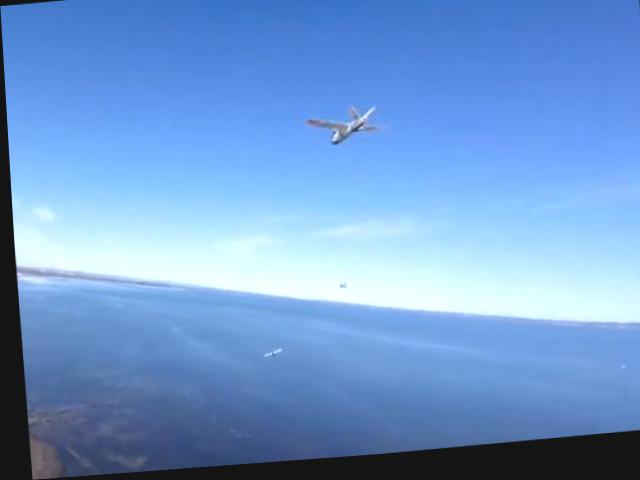uav: (304, 108, 387, 156)
